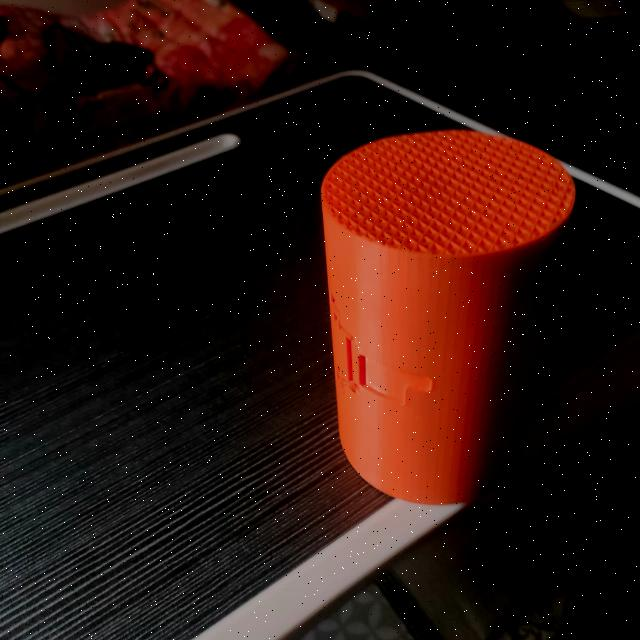Cylinder: (320, 127, 578, 505)
